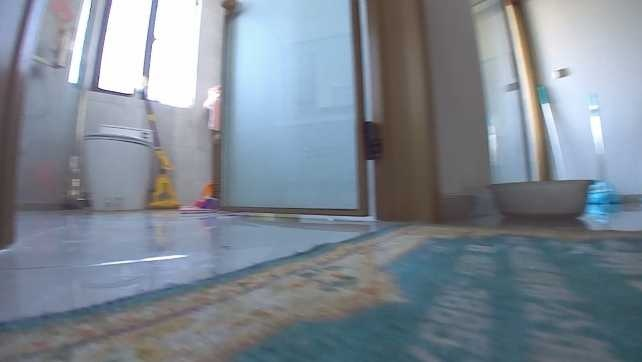blanket: (3, 221, 641, 360)
door_anno: (212, 0, 445, 220)
toilet: (78, 115, 161, 211)
